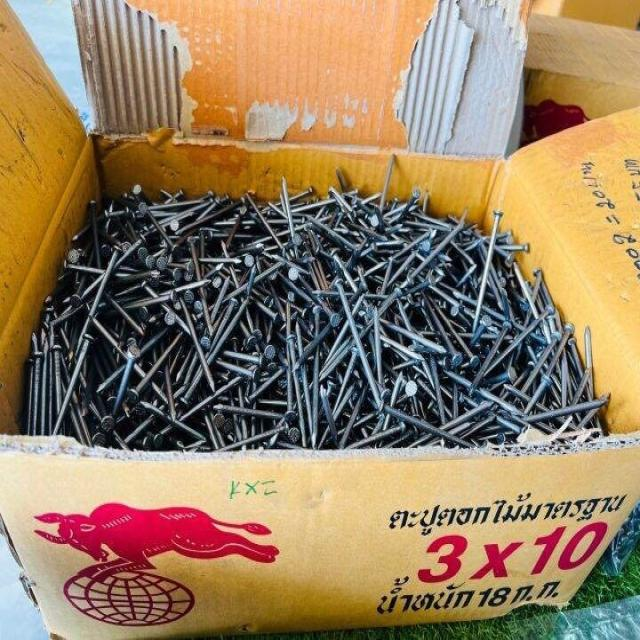3x10 nail: (46, 233, 134, 435), (167, 284, 260, 412), (328, 272, 388, 412)
